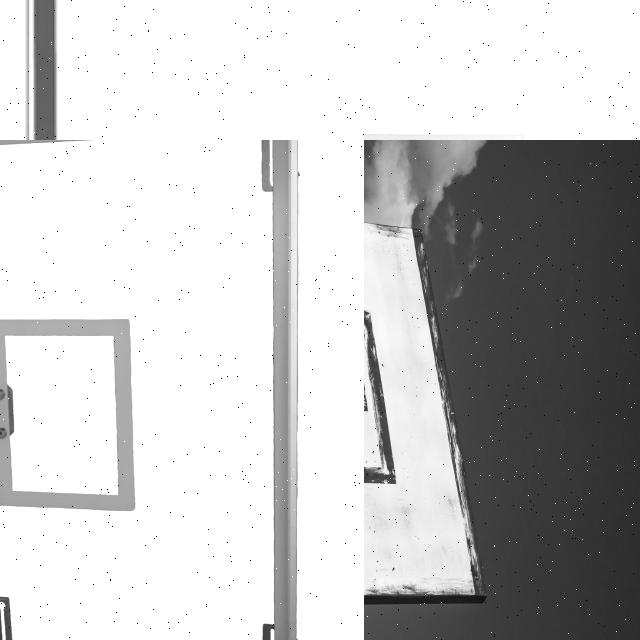backboard: (0, 140, 312, 640), (364, 197, 508, 599), (24, 0, 364, 140), (364, 0, 640, 140)
